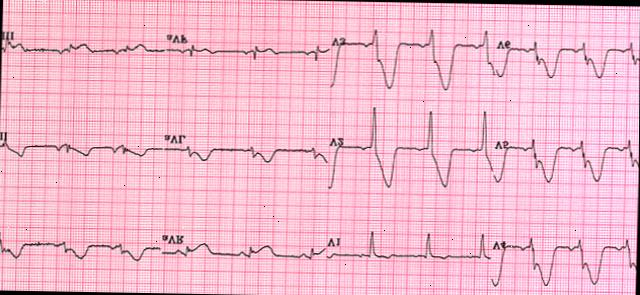Lead_I: (0, 220, 163, 269)
Lead_II: (0, 118, 164, 171)
Lead_III: (2, 24, 167, 67)
Lead_V1: (326, 222, 494, 272)
Lead_V2: (324, 102, 495, 198)
Lead_V3: (327, 16, 496, 102)
Lead_V4: (488, 226, 637, 295)
Lead_V5: (492, 121, 639, 195)
Lead_V6: (491, 19, 640, 93)
Lead_aVF: (166, 24, 332, 70)
Lead_aVL: (161, 126, 328, 173)
Lead_aVR: (162, 222, 326, 271)
